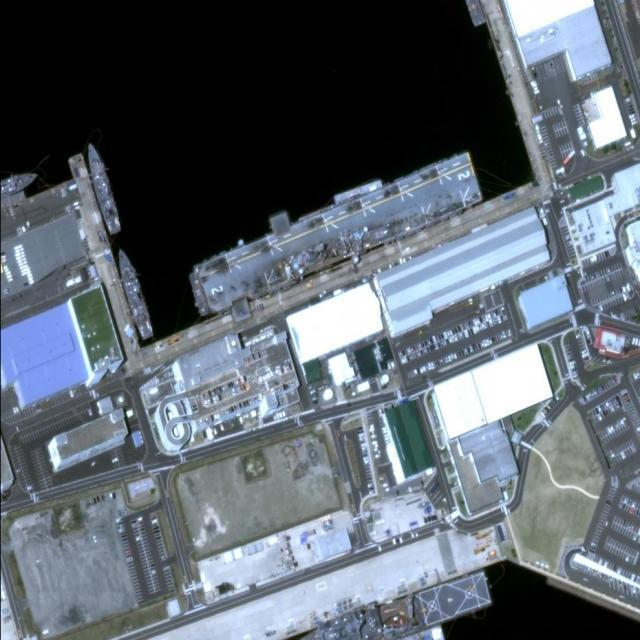Landing: (182, 151, 487, 323)
Other Warship: (114, 246, 157, 342), (83, 140, 124, 236)
